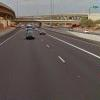Car: (21, 24, 57, 44)
